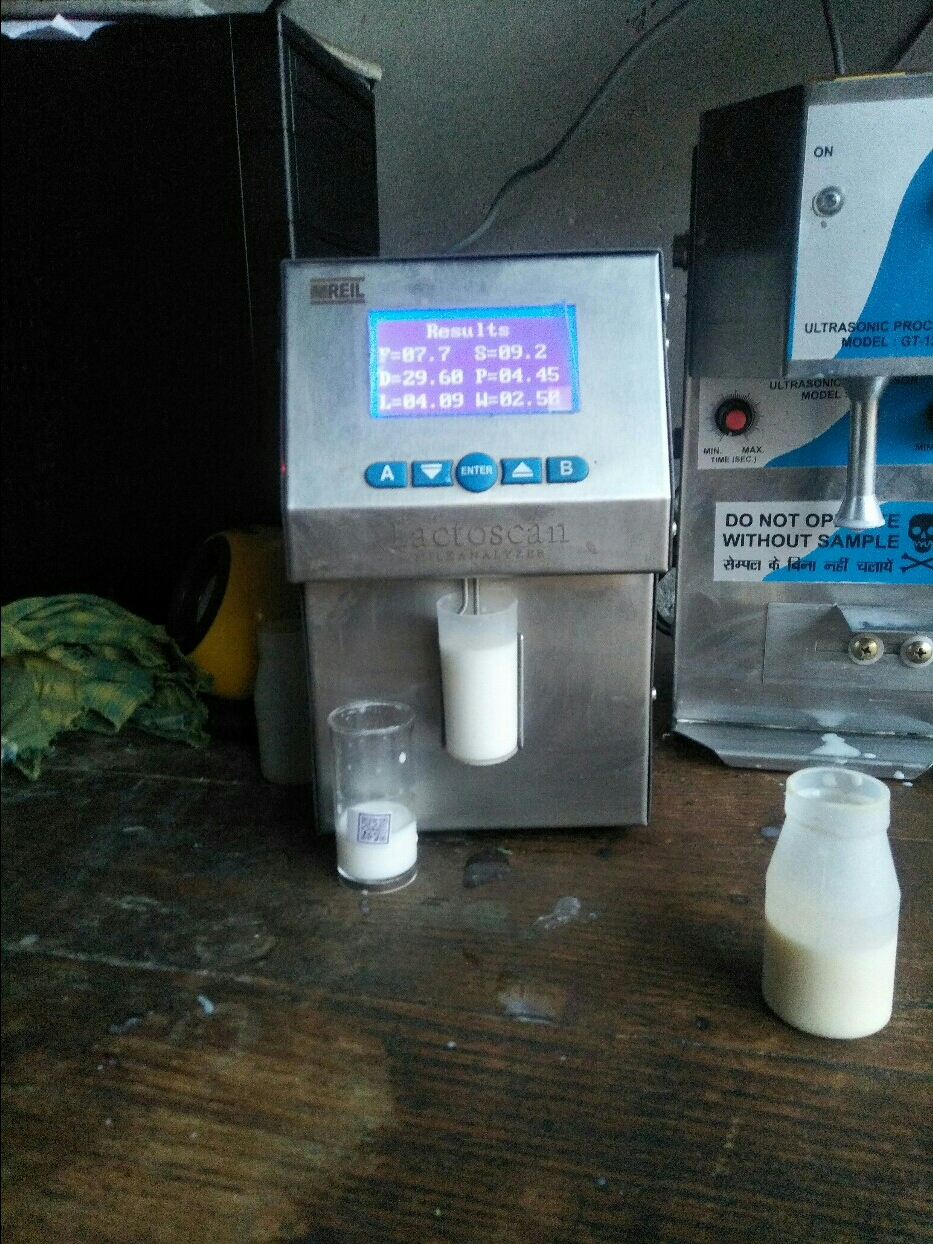lcd: (348, 299, 590, 429)
qr: (346, 801, 397, 855)
